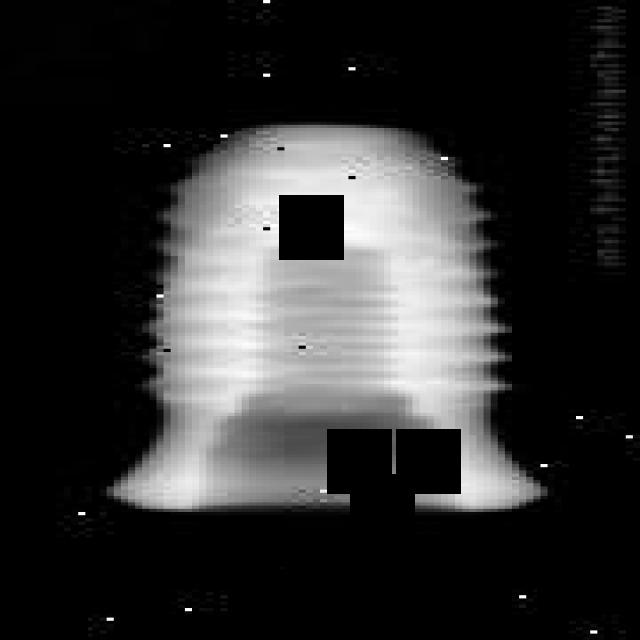Titan Implant Implant: (99, 115, 560, 518)
